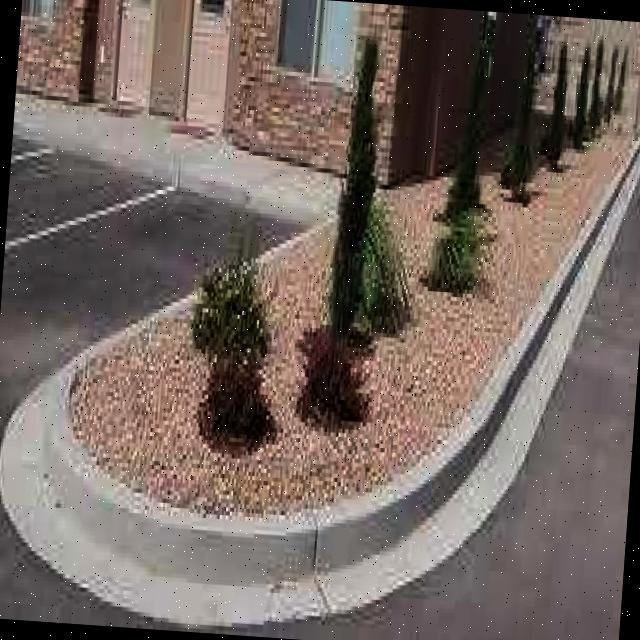curb: (1, 465, 413, 632), (401, 348, 550, 546), (86, 155, 323, 236), (19, 367, 102, 469), (529, 240, 608, 342), (603, 124, 640, 230)
